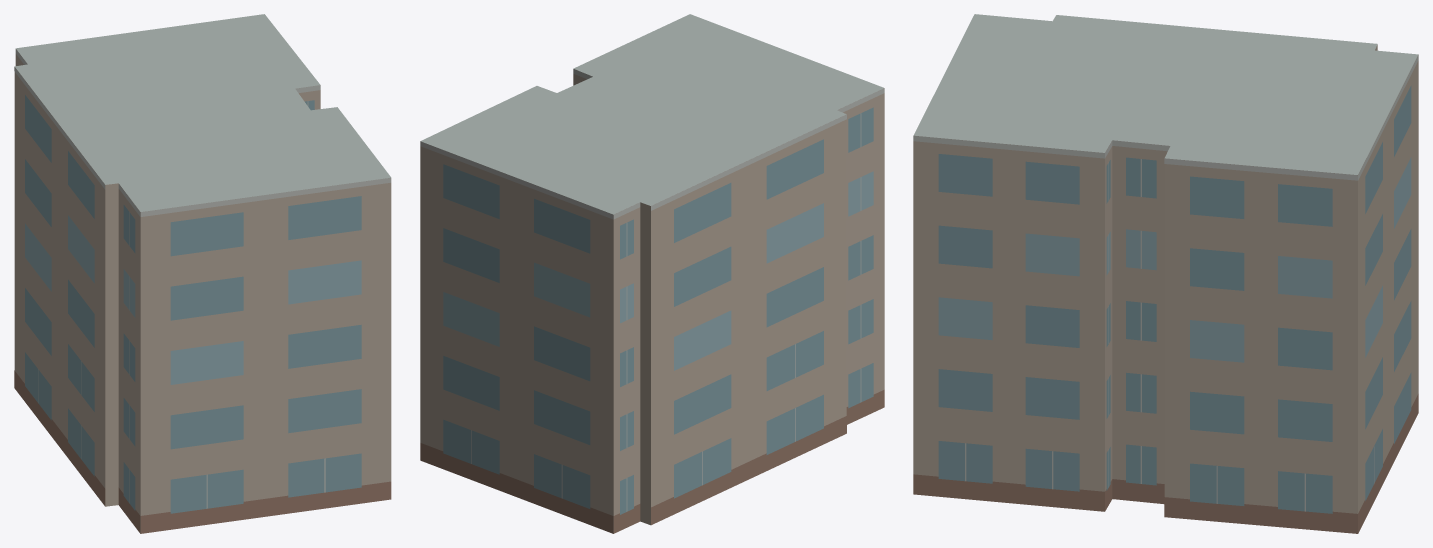
The model's file is survey-upis-32663574.glb.
3 views of the same model, side by side, from view 1: azimuth 30°, elevation 25°; view 2: azimuth 150°, elevation 25°; view 3: azimuth 270°, elevation 25° (orthographic). The views are drawn at different scales.
Visible parts, largest first — view 1: survey-upis-32663574.tmp; view 2: survey-upis-32663574.tmp; view 3: survey-upis-32663574.tmp.
Part boxes in pixels (x1,y1,x2,y2): survey-upis-32663574.tmp: [14, 14, 391, 533]; survey-upis-32663574.tmp: [420, 14, 884, 533]; survey-upis-32663574.tmp: [913, 14, 1418, 533].
Bounding box in the file's own units: 15.08 × 15.65 × 19.98.
